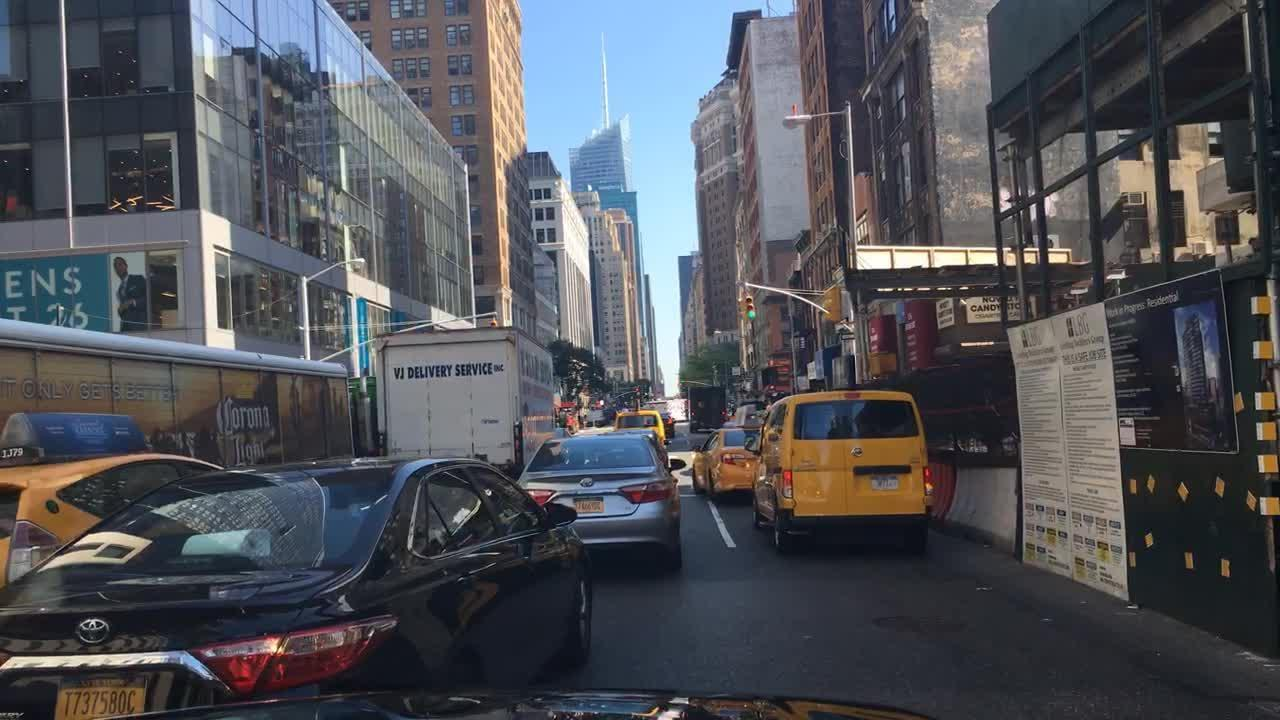Nissan: (849, 443, 866, 461)
Toyota: (63, 613, 122, 651)
